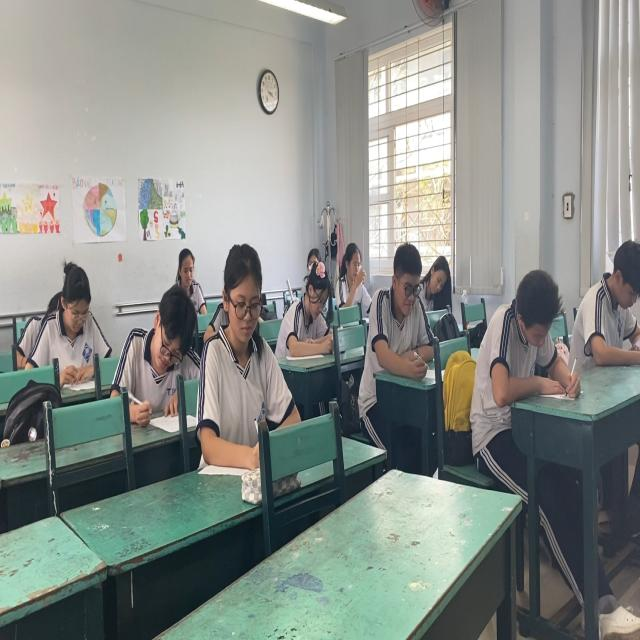not_cheating: (189, 244, 290, 447), (483, 275, 568, 382), (119, 295, 198, 406), (571, 239, 640, 364), (41, 264, 113, 382), (368, 244, 430, 367), (282, 243, 337, 357), (168, 236, 208, 312), (333, 233, 373, 305), (424, 237, 455, 302)
